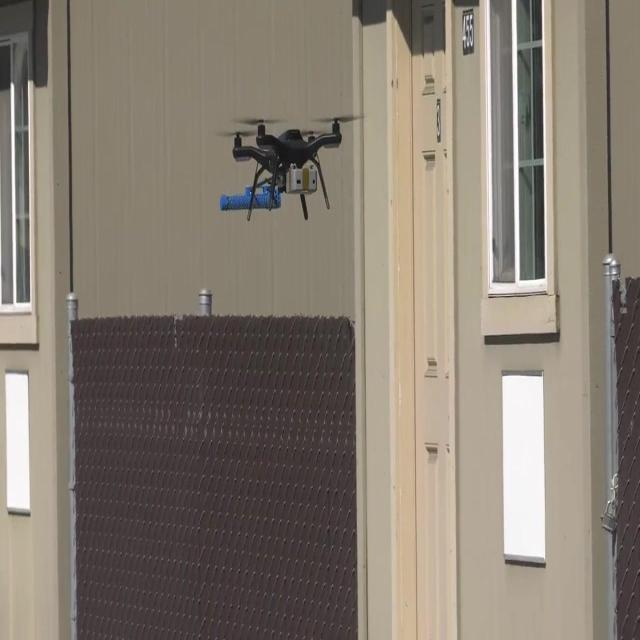drone: (216, 113, 363, 225)
